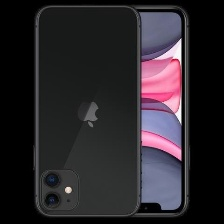phone: (32, 2, 143, 221), (89, 4, 190, 220)
